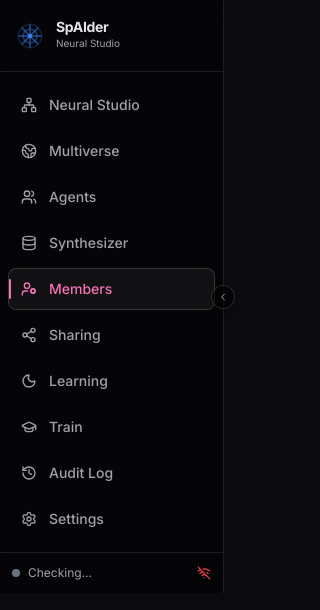
Sidebar collapse button › says which way it will go, and whether the sidebar is open
Click the button named "Collapse sidebar" at [223, 296], box [211, 284, 235, 308]
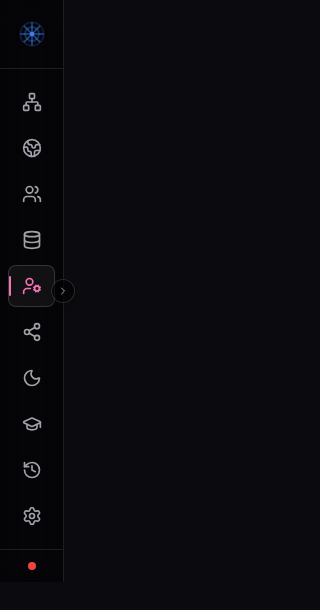
Result: the button named "Expand sidebar" is collapsed at [51, 279, 75, 303]
